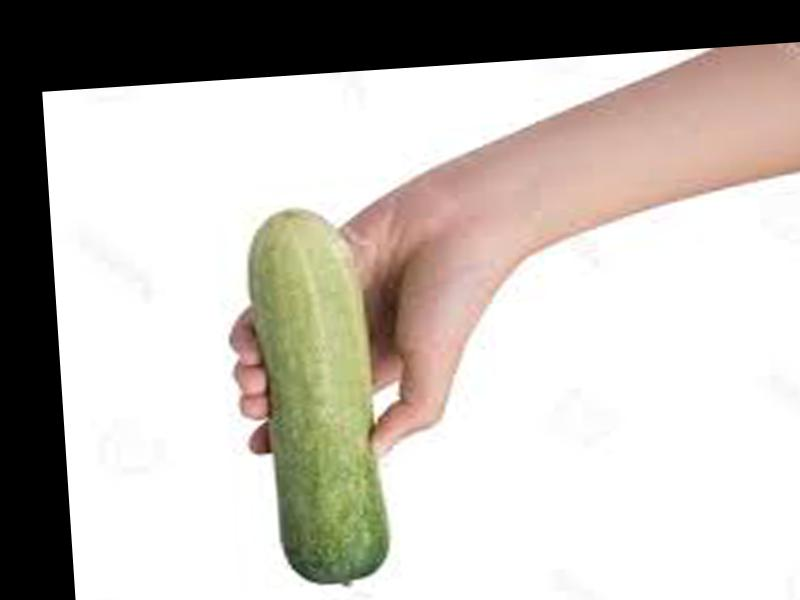Cucumber: (248, 201, 399, 593)
